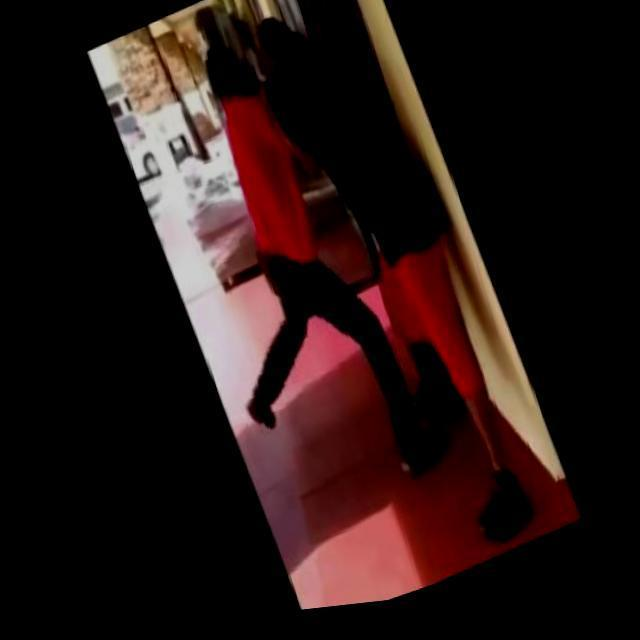fight: (165, 0, 538, 610)
